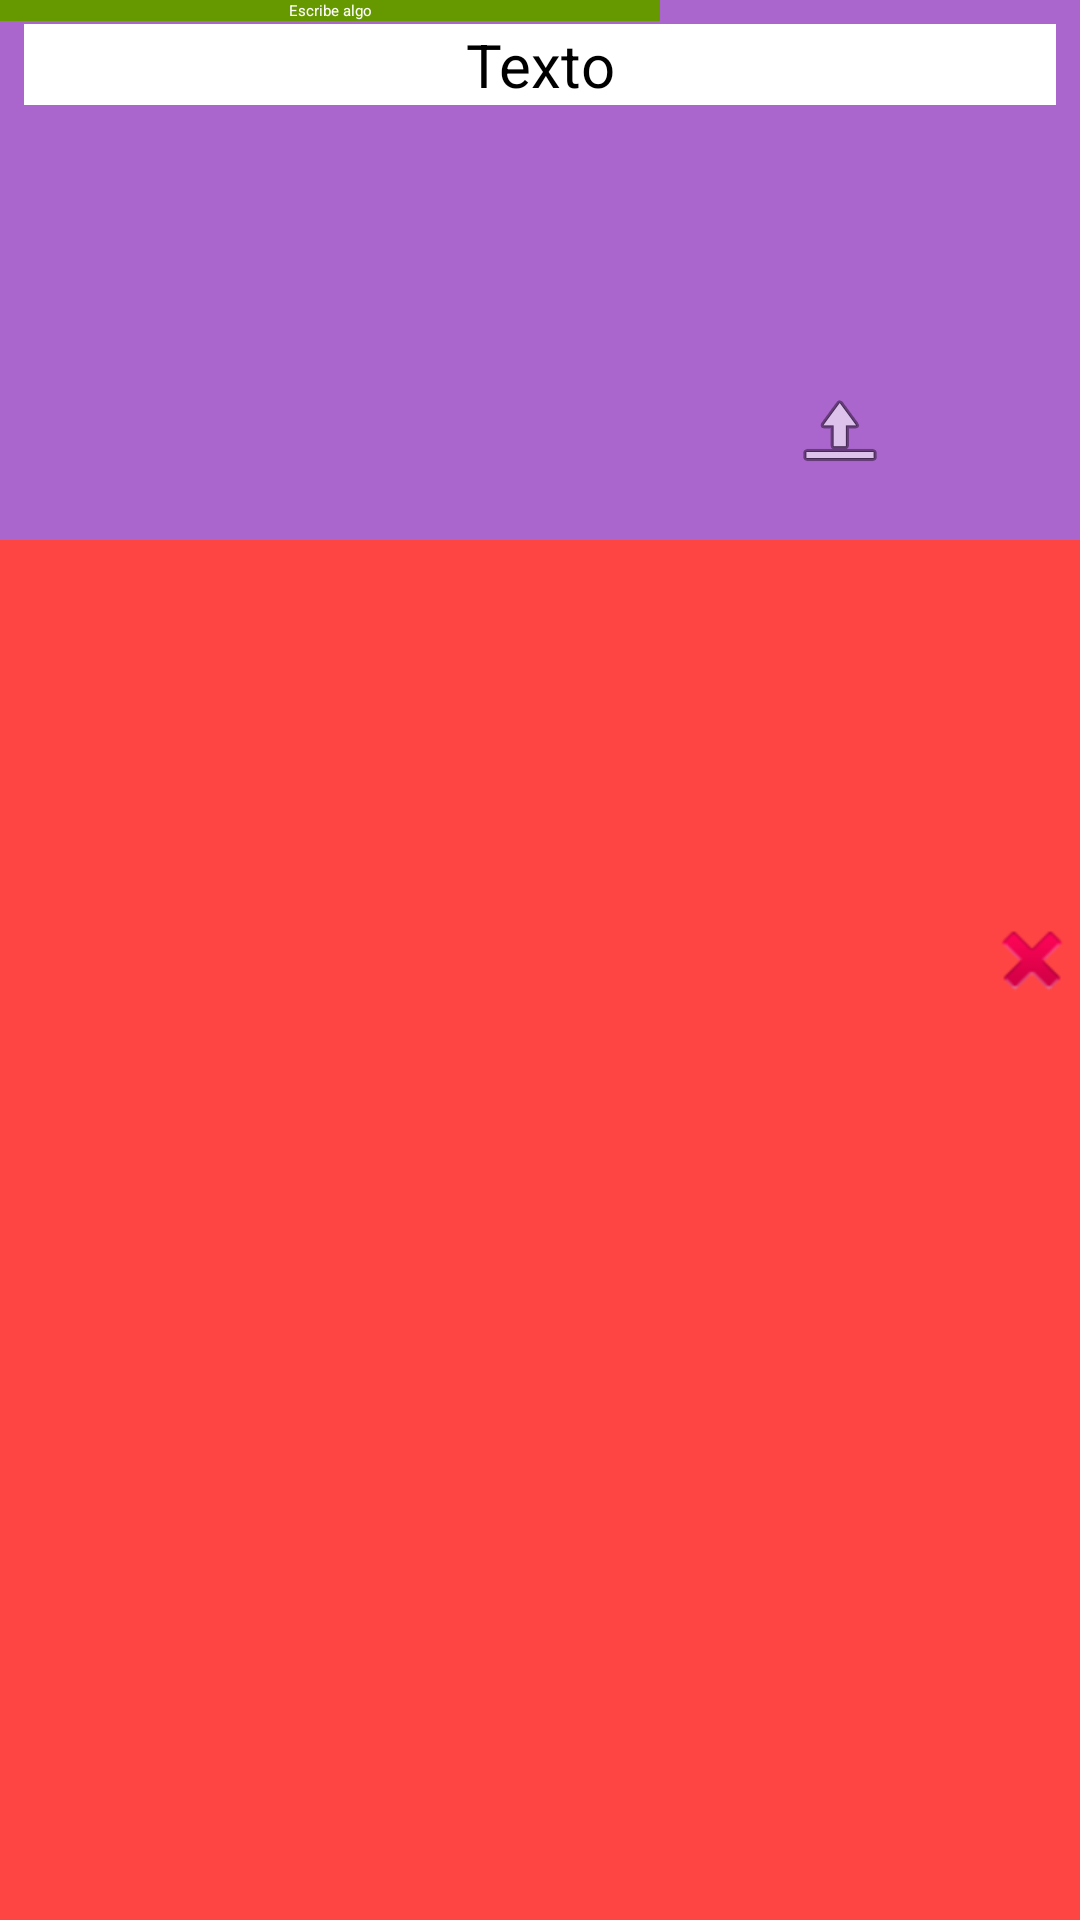

Where to tap for icons on this 1080px x 1920px app screen, as (x=x, y=y):
delete: (x=1032, y=960)
upload: (x=840, y=430)
